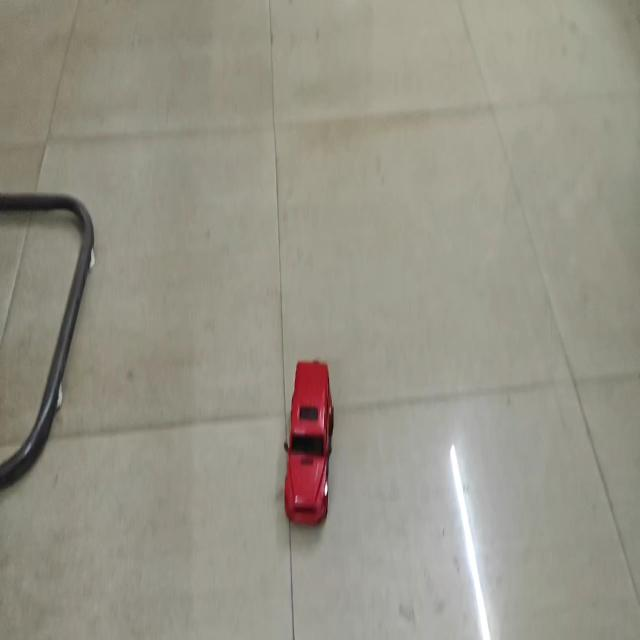light_vehicle: (276, 346, 337, 530)
